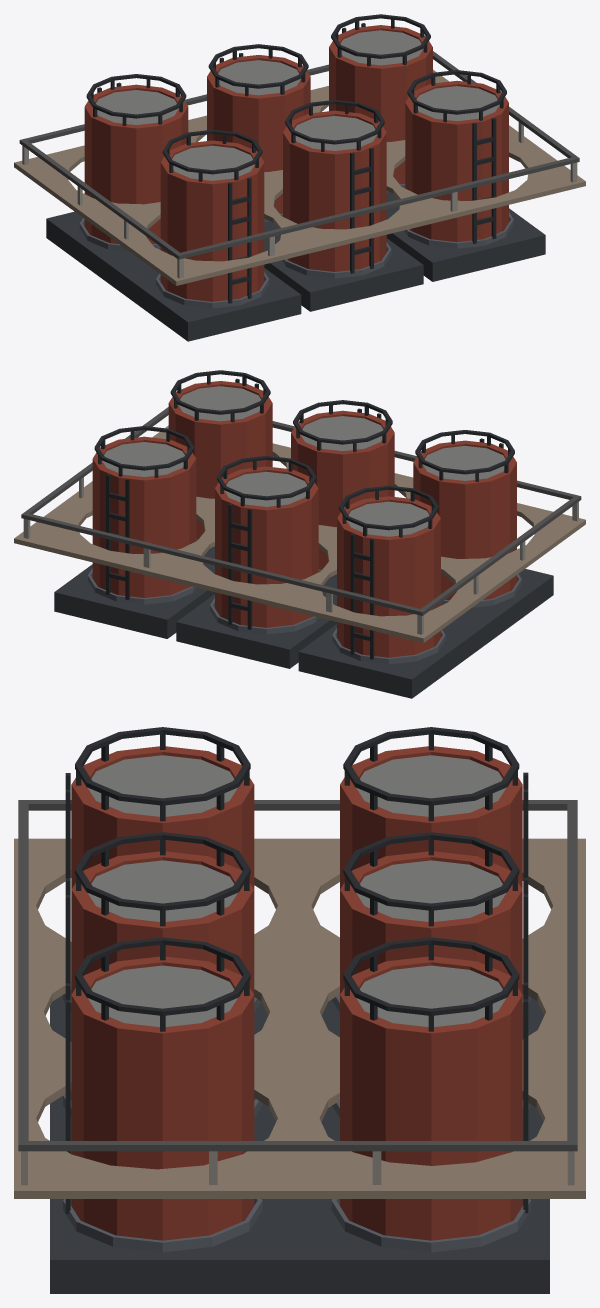
The model's file is Industrial Building_4.fbx.
3 views of the same model, one above another, from view 1: azimuth 30°, elevation 25°; view 2: azimuth 150°, elevation 25°; view 3: azimuth 270°, elevation 25° (orthographic). The views are drawn at different scales.
Visible parts, largest first — view 1: Industrial Building_4; view 2: Industrial Building_4; view 3: Industrial Building_4.
Part boxes in pixels (x1,y1,x2,y2): Industrial Building_4: [14, 14, 585, 341]; Industrial Building_4: [14, 370, 585, 698]; Industrial Building_4: [14, 727, 585, 1293].
Size of the model in its own units: 1937 by 694 by 1329.
